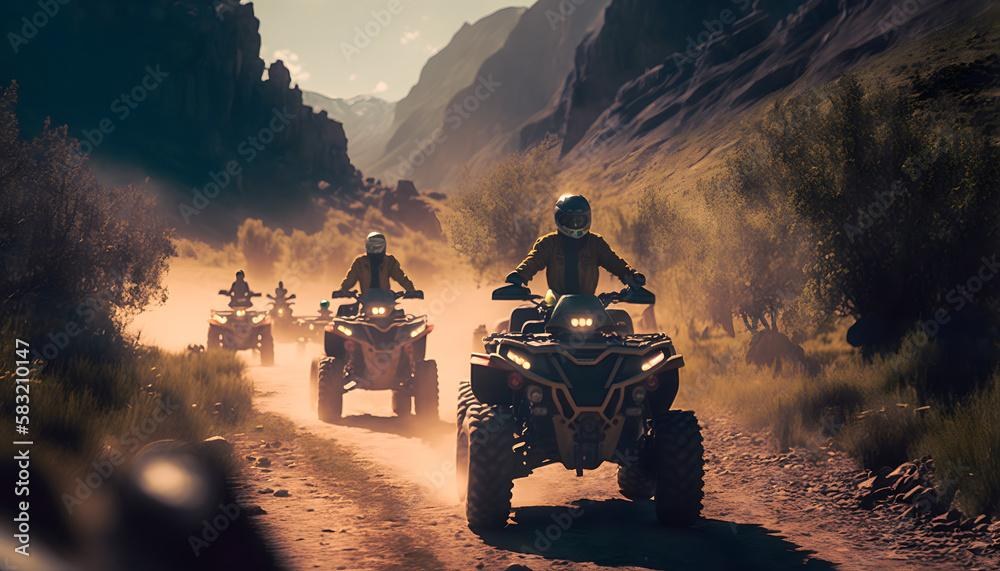helmet: (554, 192, 592, 241), (365, 231, 388, 262)
